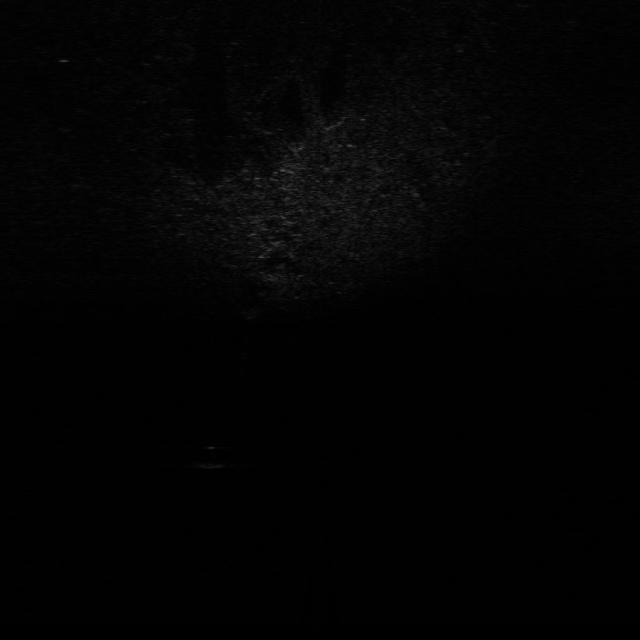ball: (193, 443, 233, 470)
cube: (232, 302, 266, 324)
